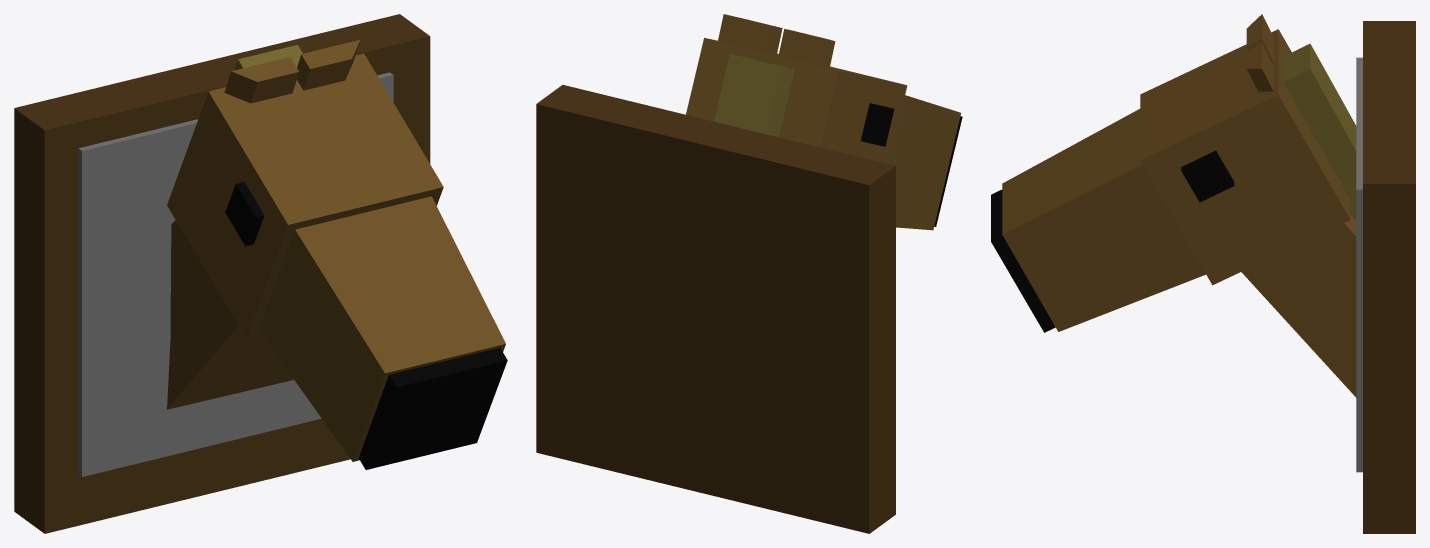
The model's file is horsetrophy.fbx.
The picture shows the model from 3 angles, left to right: view 1: azimuth 30°, elevation 25°; view 2: azimuth 150°, elevation 25°; view 3: azimuth 270°, elevation 25°; orthographic projection. The views are drawn at different scales.
Visible parts, largest first — view 1: Cube.002, Cube, Cube.007, Cube.001, Cube.006, Cube.005, Cube.003; view 2: Cube, Cube.002, Cube.003, Cube.005; view 3: Cube.002, Cube, Cube.001, Cube.003, Cube.007, Cube.006, Cube.004.
Part boxes in pixels (bbox=[...]): Cube.002: bbox=[167, 40, 505, 461]; Cube: bbox=[14, 14, 430, 533]; Cube.007: bbox=[78, 72, 393, 476]; Cube.001: bbox=[167, 220, 293, 409]; Cube.006: bbox=[359, 348, 507, 469]; Cube.005: bbox=[225, 181, 264, 245]; Cube.003: bbox=[234, 45, 302, 70]; Cube: bbox=[536, 85, 895, 533]; Cube.002: bbox=[686, 14, 960, 230]; Cube.003: bbox=[714, 53, 794, 137]; Cube.005: bbox=[860, 103, 894, 146]; Cube.002: bbox=[1002, 14, 1350, 331]; Cube: bbox=[1363, 21, 1415, 533]; Cube.001: bbox=[1241, 215, 1356, 397]; Cube.003: bbox=[1283, 43, 1356, 219]; Cube.007: bbox=[1356, 57, 1362, 472]; Cube.006: bbox=[991, 189, 1055, 332]; Cube.004: bbox=[1181, 150, 1234, 202].
Bounding box in the file's own units: 397 × 466 × 437.
